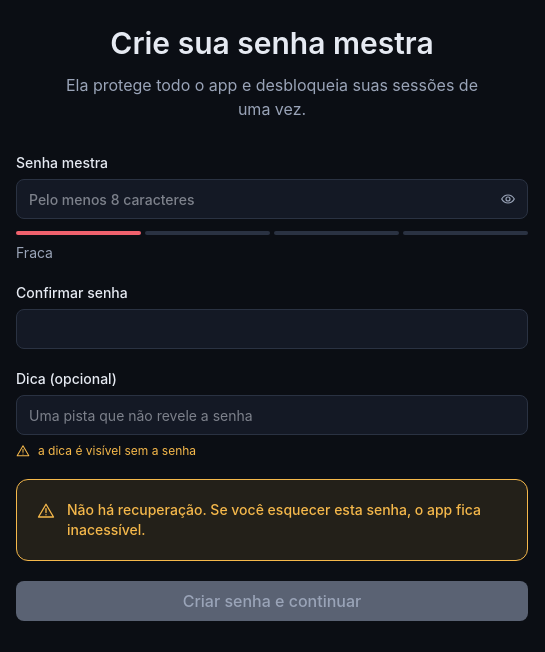
Test case: CreateGlobalPassword › só habilita o envio com senha longa e confirmação coincidente
This screenshot has width=545, height=652.
Expected: the submit button is disabled, top-left (16, 581), bottom-right (528, 621)
Type "curta" into the password field with id "master-password" at [272, 199], box top-left (16, 179), bottom-right (528, 219)
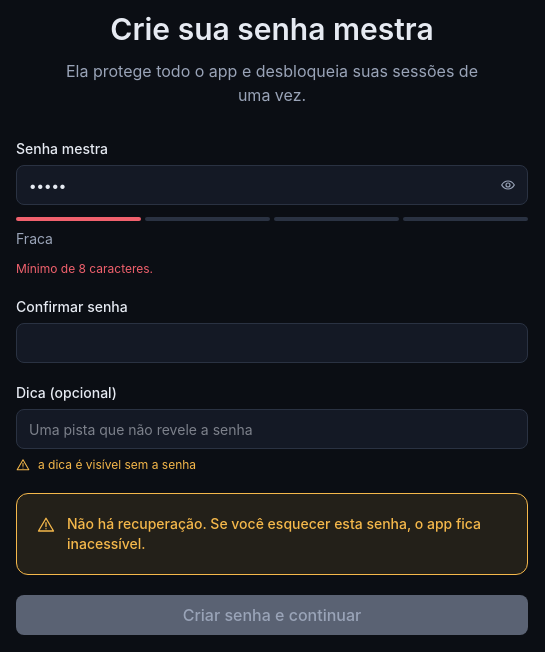
Type "curta" into the password field with id "confirm-password" at [272, 343], box top-left (16, 323), bottom-right (528, 363)
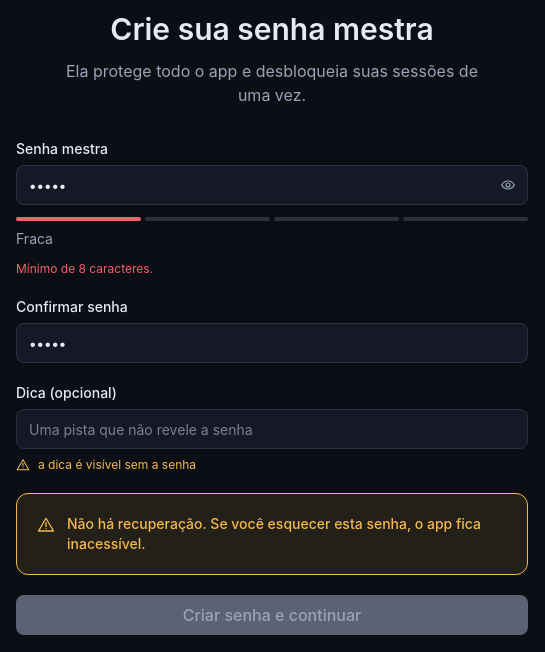
Expected: the submit button is disabled, top-left (16, 595), bottom-right (528, 635)
Type "senha-longa-123" into the password field with id "master-password" at [272, 185], box top-left (16, 165), bottom-right (528, 205)
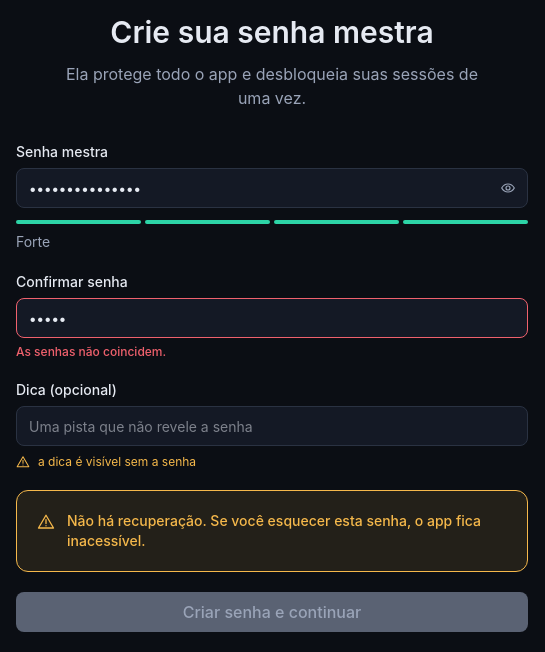
Type "senha-longa-123" into the password field with id "confirm-password" at [272, 318], box top-left (16, 298), bottom-right (528, 338)
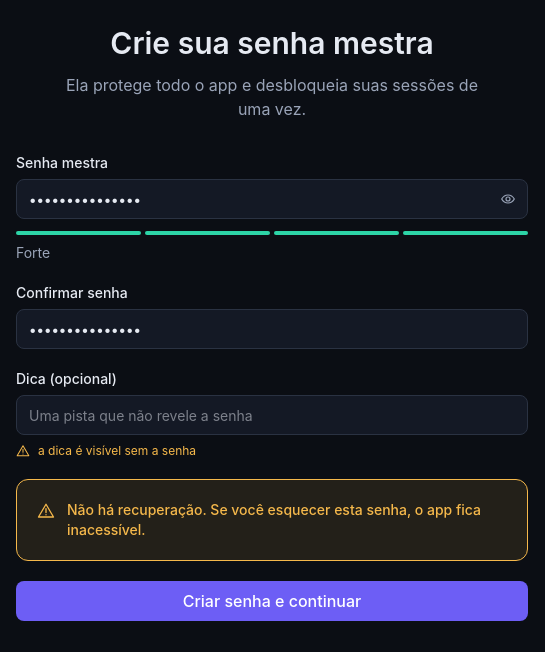
Expected: the submit button is enabled, top-left (16, 581), bottom-right (528, 621)
